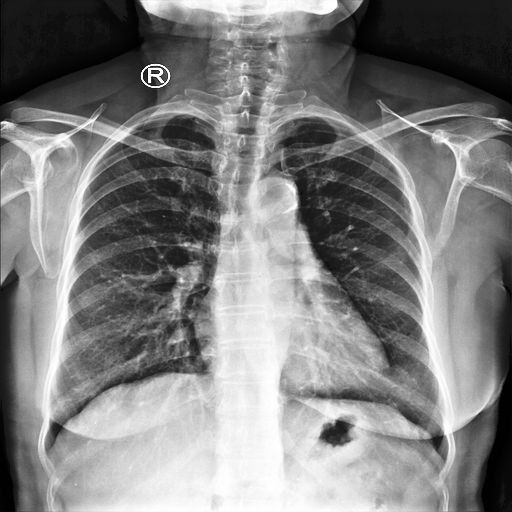Consolidation: (256, 176, 300, 225)
